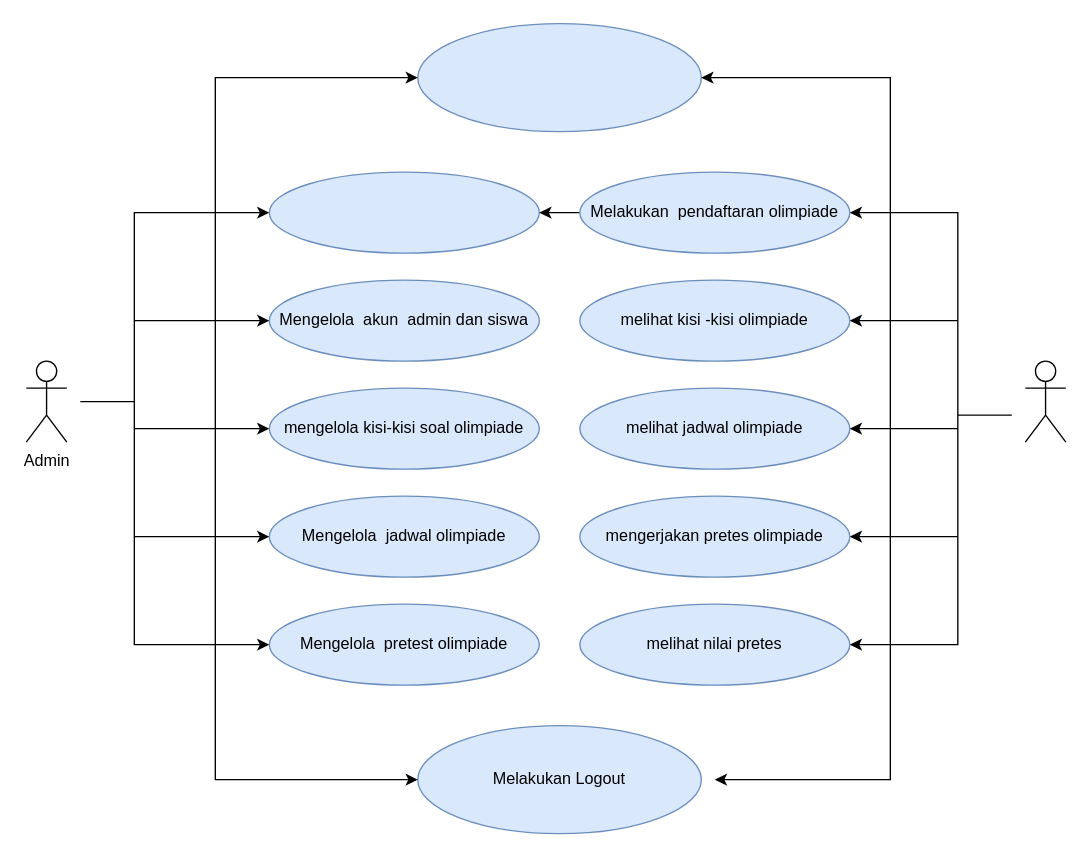
This 1089x857 diagram has some shape labels left out. Here are the shapes that lost their labels. From the top down, the centre of each, then its label:
At point (558, 77): "Melakukan Login".
At point (403, 212): "Memvalidasi pendaftaran olimpiade".
At point (1045, 401): "Siswa".
